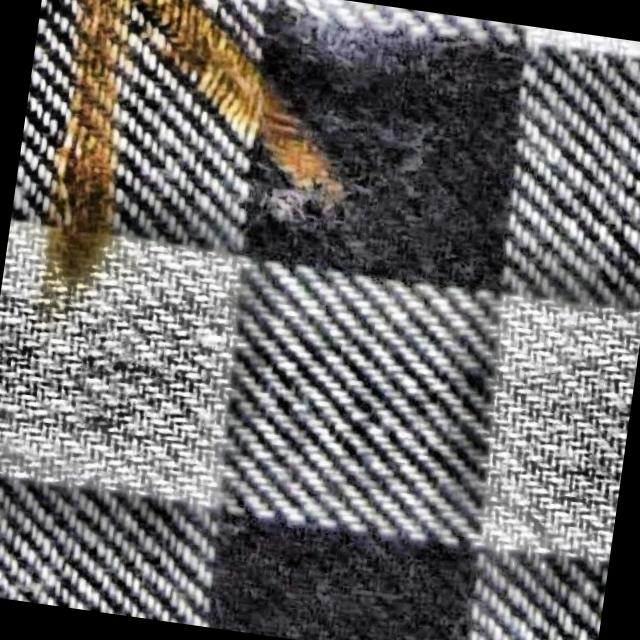gray stitch: (102, 0, 368, 200)
